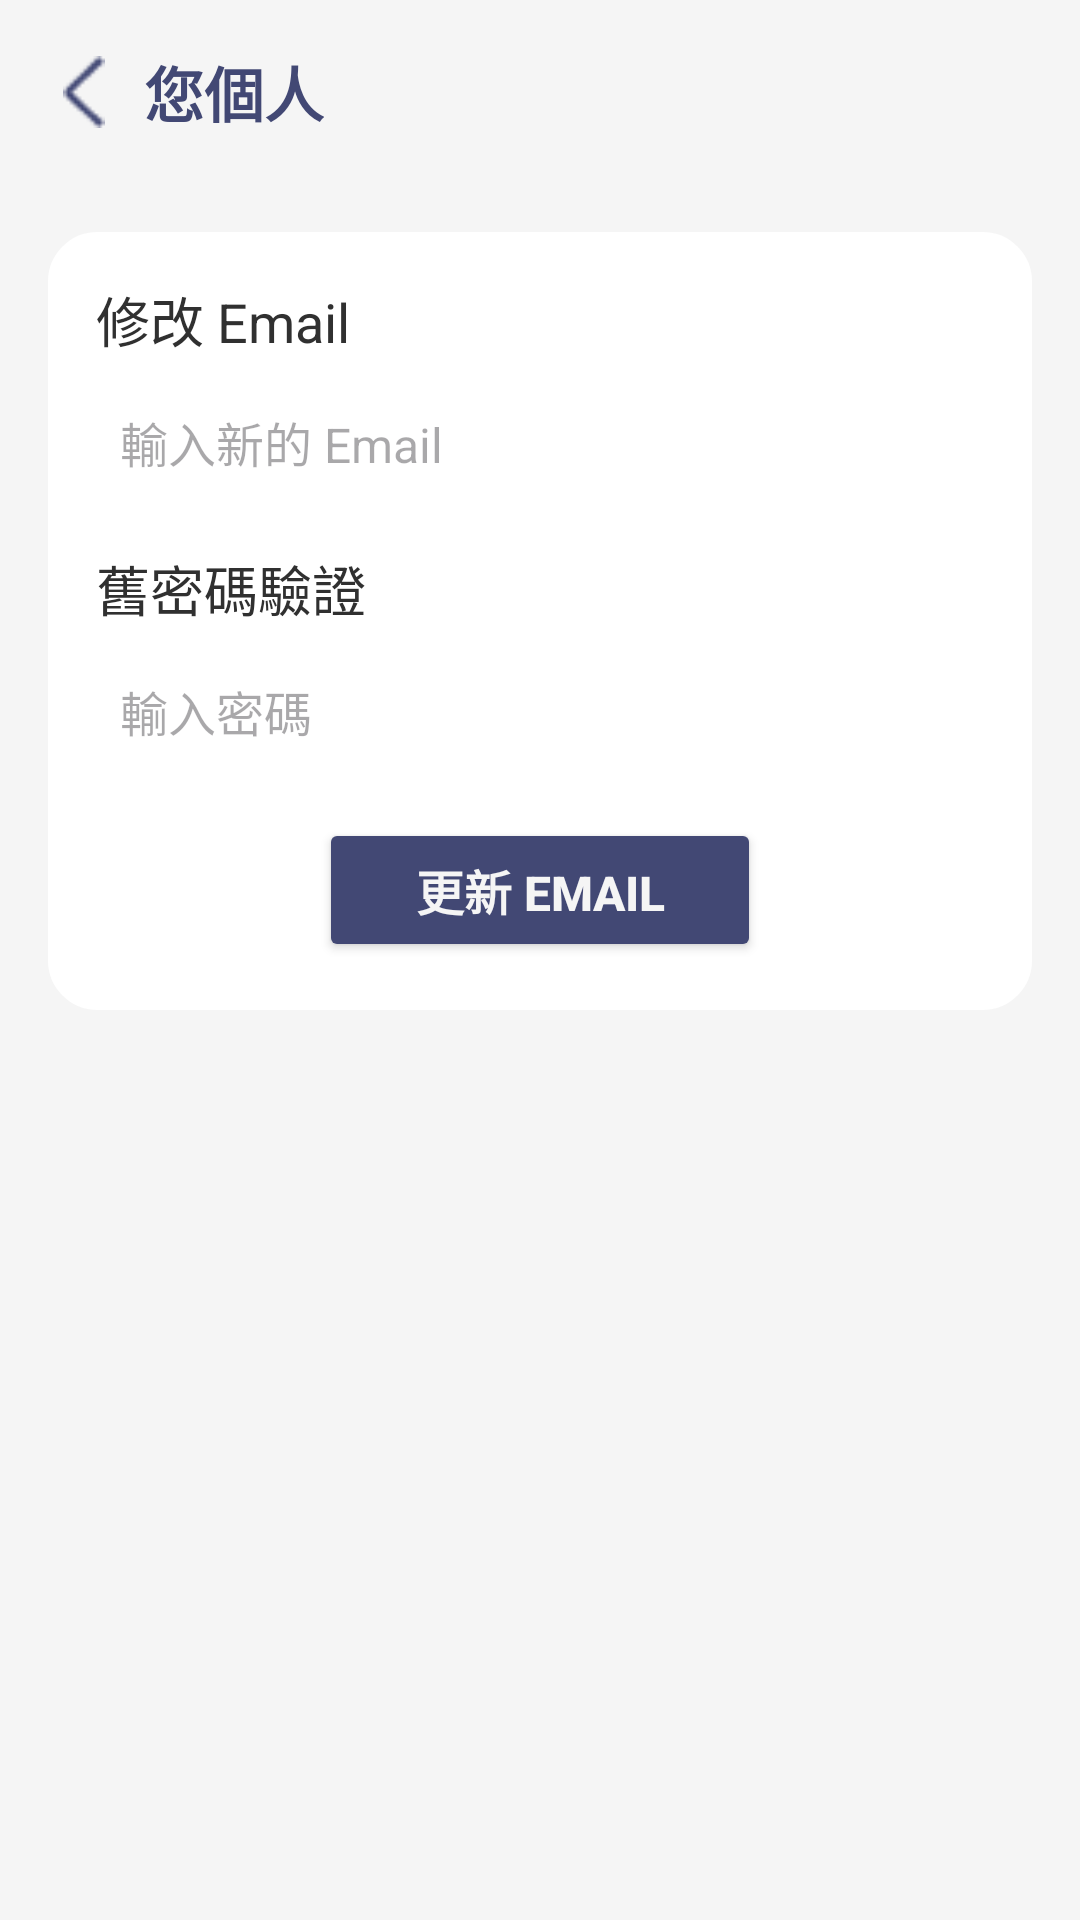

Icon click points for this 1080px x 1920px phone screenshot, format (x,y):
返回: (84,92)
